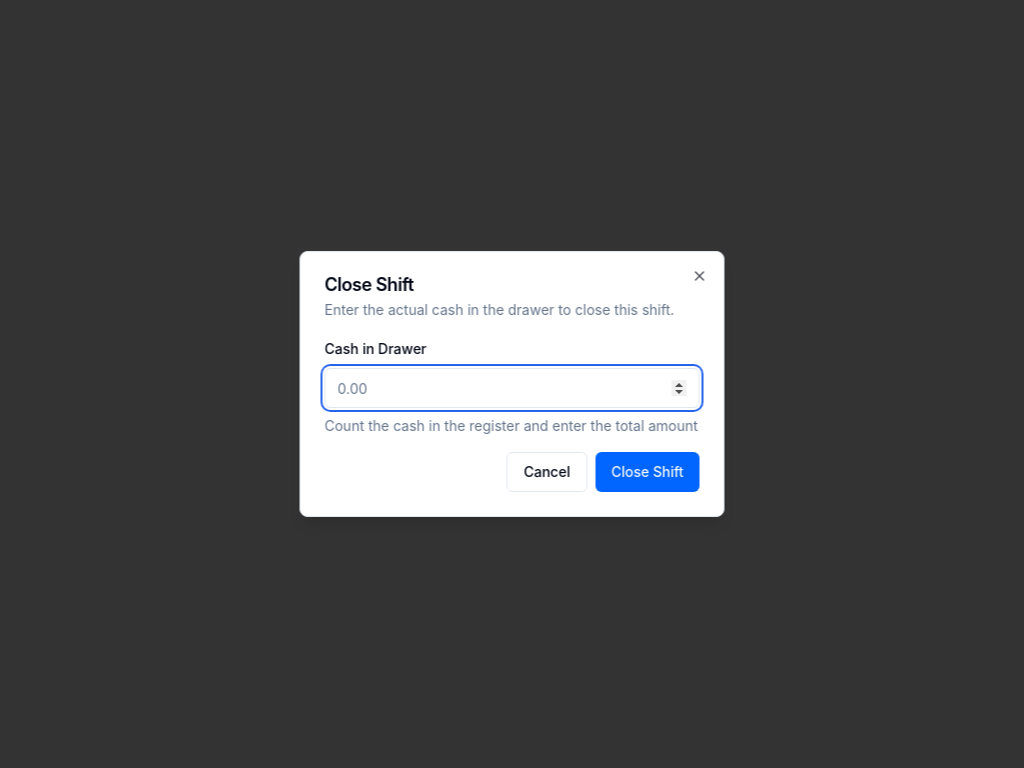
COMPONENT: ShiftClosingForm Component (Simplified Flow) › [P1] COMPONENT-SEC-002: should validate closing cash accepts only numeric input
// Non-numeric characters are entered
In the number field with test id "closing-cash-input": (512, 388) [324,368,700,408], type "abc250"
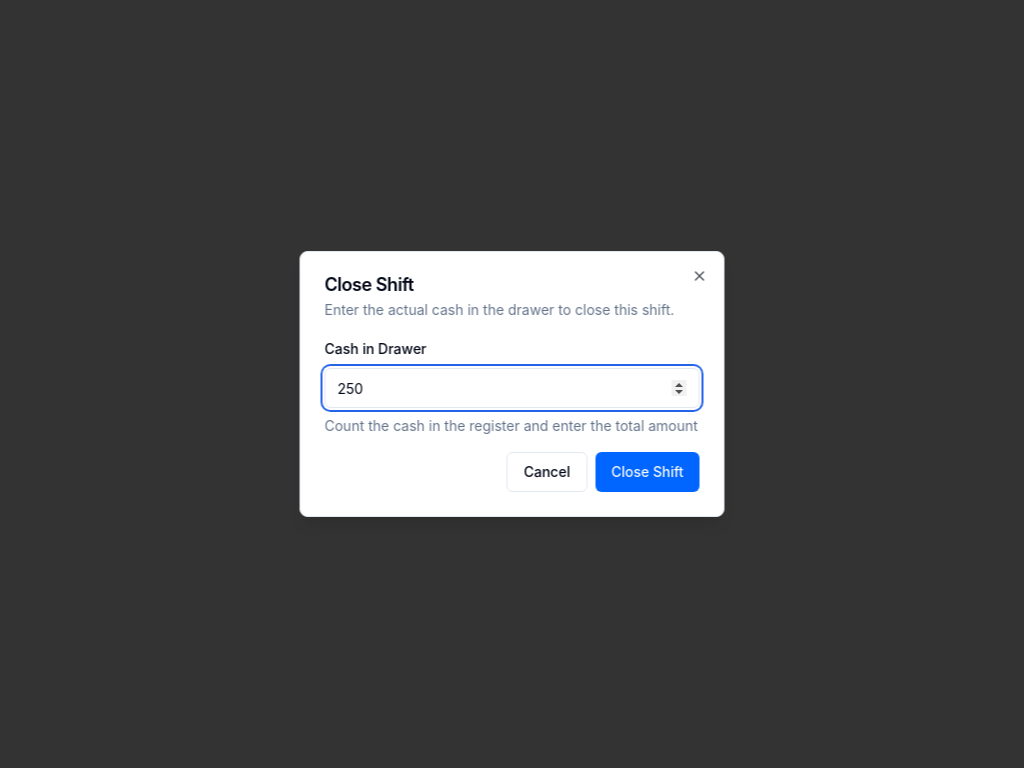
Expected: the number field with test id "closing-cash-input" holds "250", [324,368,700,408]
